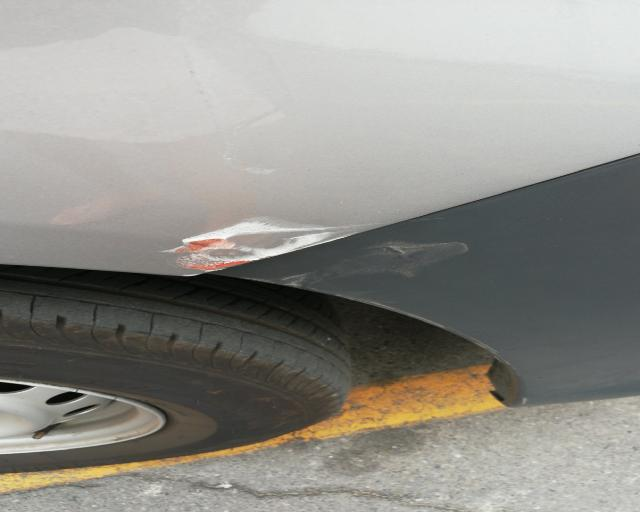scratch: (156, 214, 385, 277), (264, 238, 477, 303)
